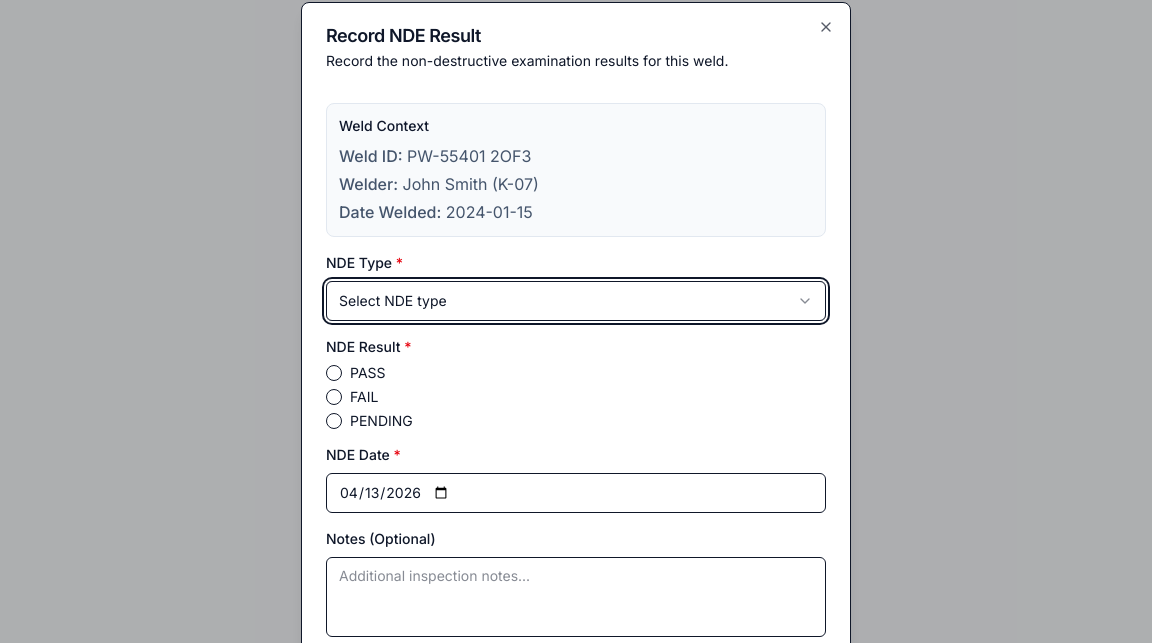
Test: NDEResultDialog › hides warning when other option selected
# Select FAIL first
Click the radio button named "FAIL" next to "FAIL". click: x=334, y=397
box: [326,389,342,405]
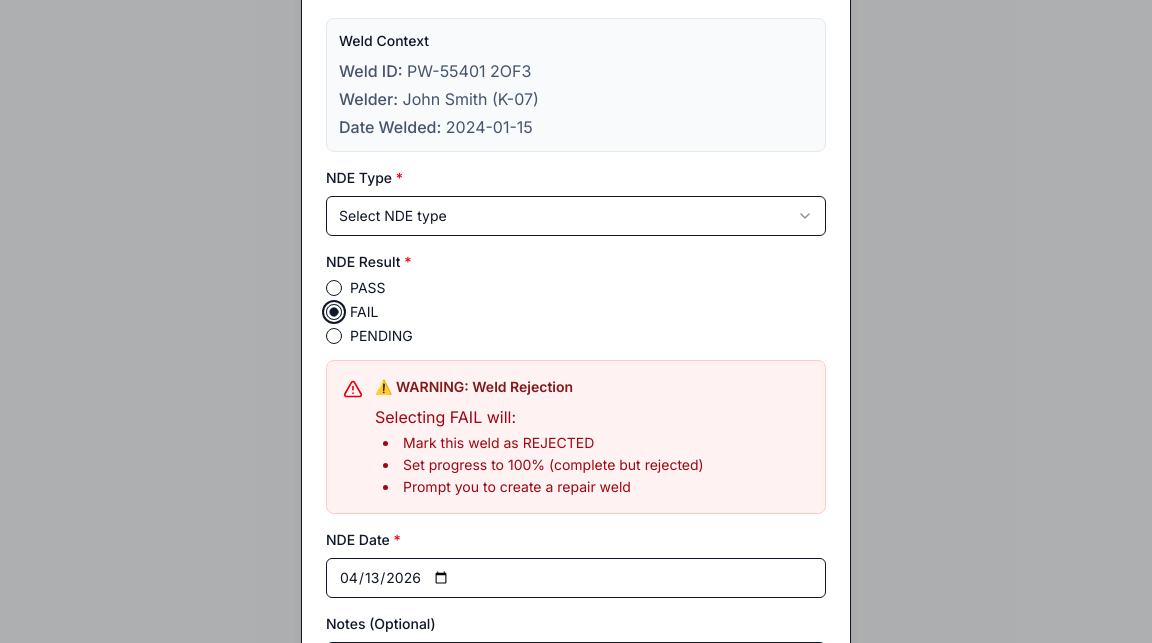
expect the heading "⚠️ WARNING: Weld Rejection" is shown: met, box [375,378,573,395]
# Select PASS
Click the radio button named "PASS" next to "PASS". click: x=334, y=288
box: [326,280,342,296]
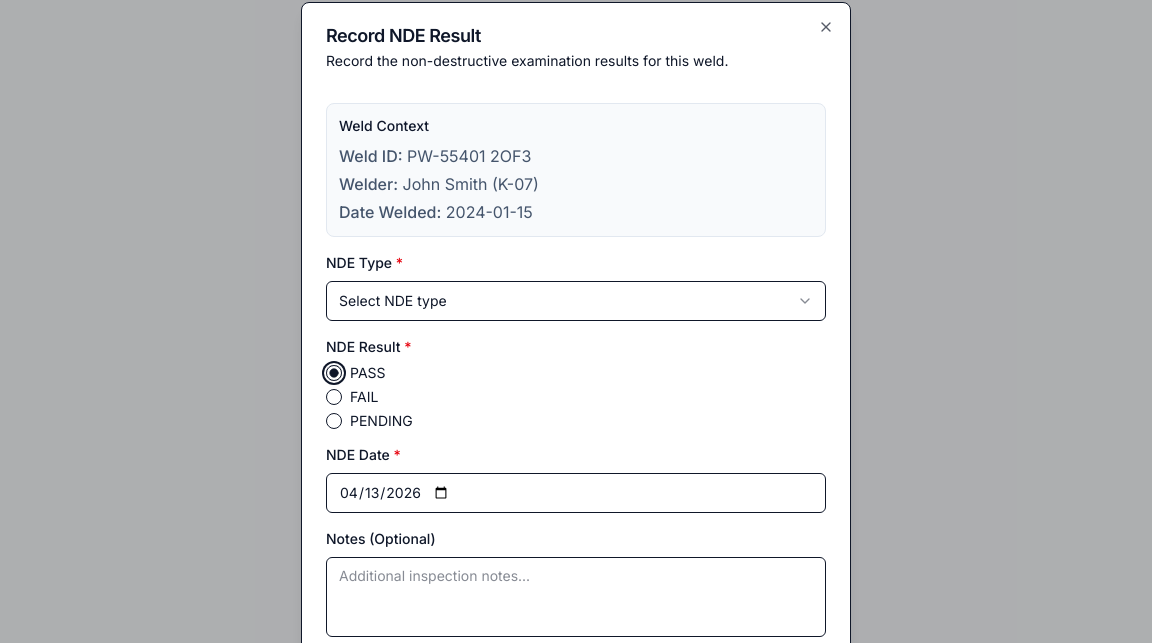
expect the heading "⚠️ WARNING: Weld Rejection" is gone: met
